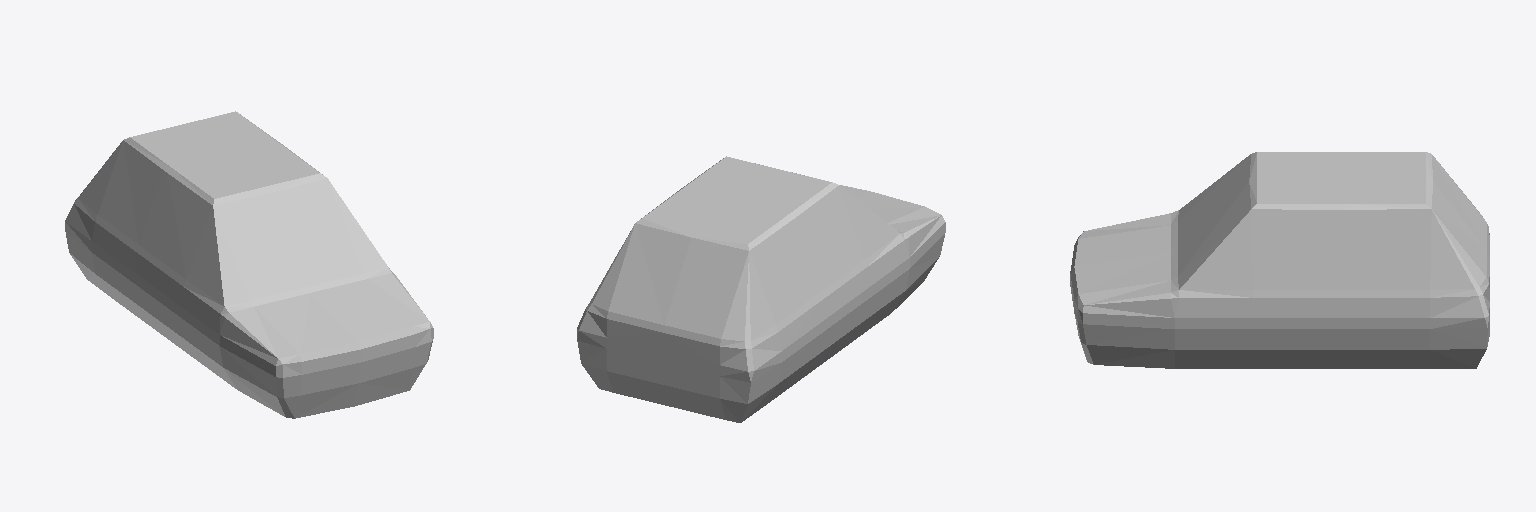
The model's file is car1.obj.
The picture shows the model from 3 angles: view 1: azimuth 30°, elevation 25°; view 2: azimuth 150°, elevation 25°; view 3: azimuth 270°, elevation 25°; orthographic projection.
Visible parts, largest first — view 1: body; view 2: body; view 3: body.
Boxes of the visible parts, x1,y1,x2,y2 form: body: [65, 111, 433, 418]; body: [577, 156, 945, 422]; body: [1070, 152, 1489, 368].
Bounding box in the file's own units: 1 × 0.84 × 2.04.